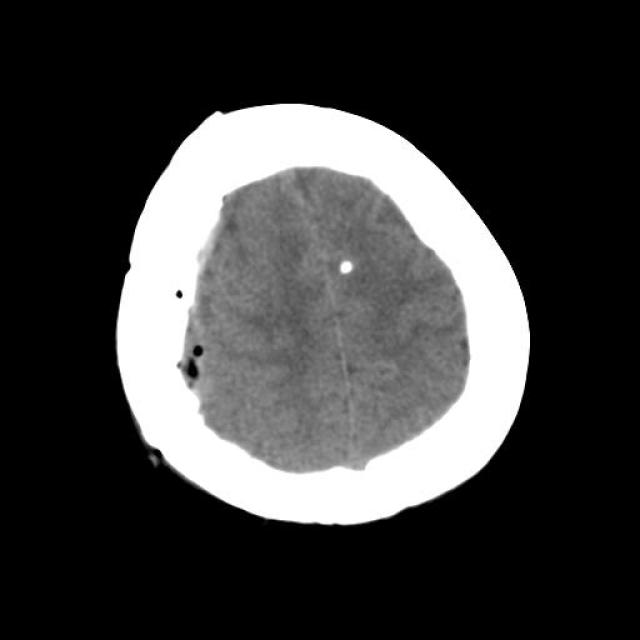Subdural: (162, 191, 246, 391)
